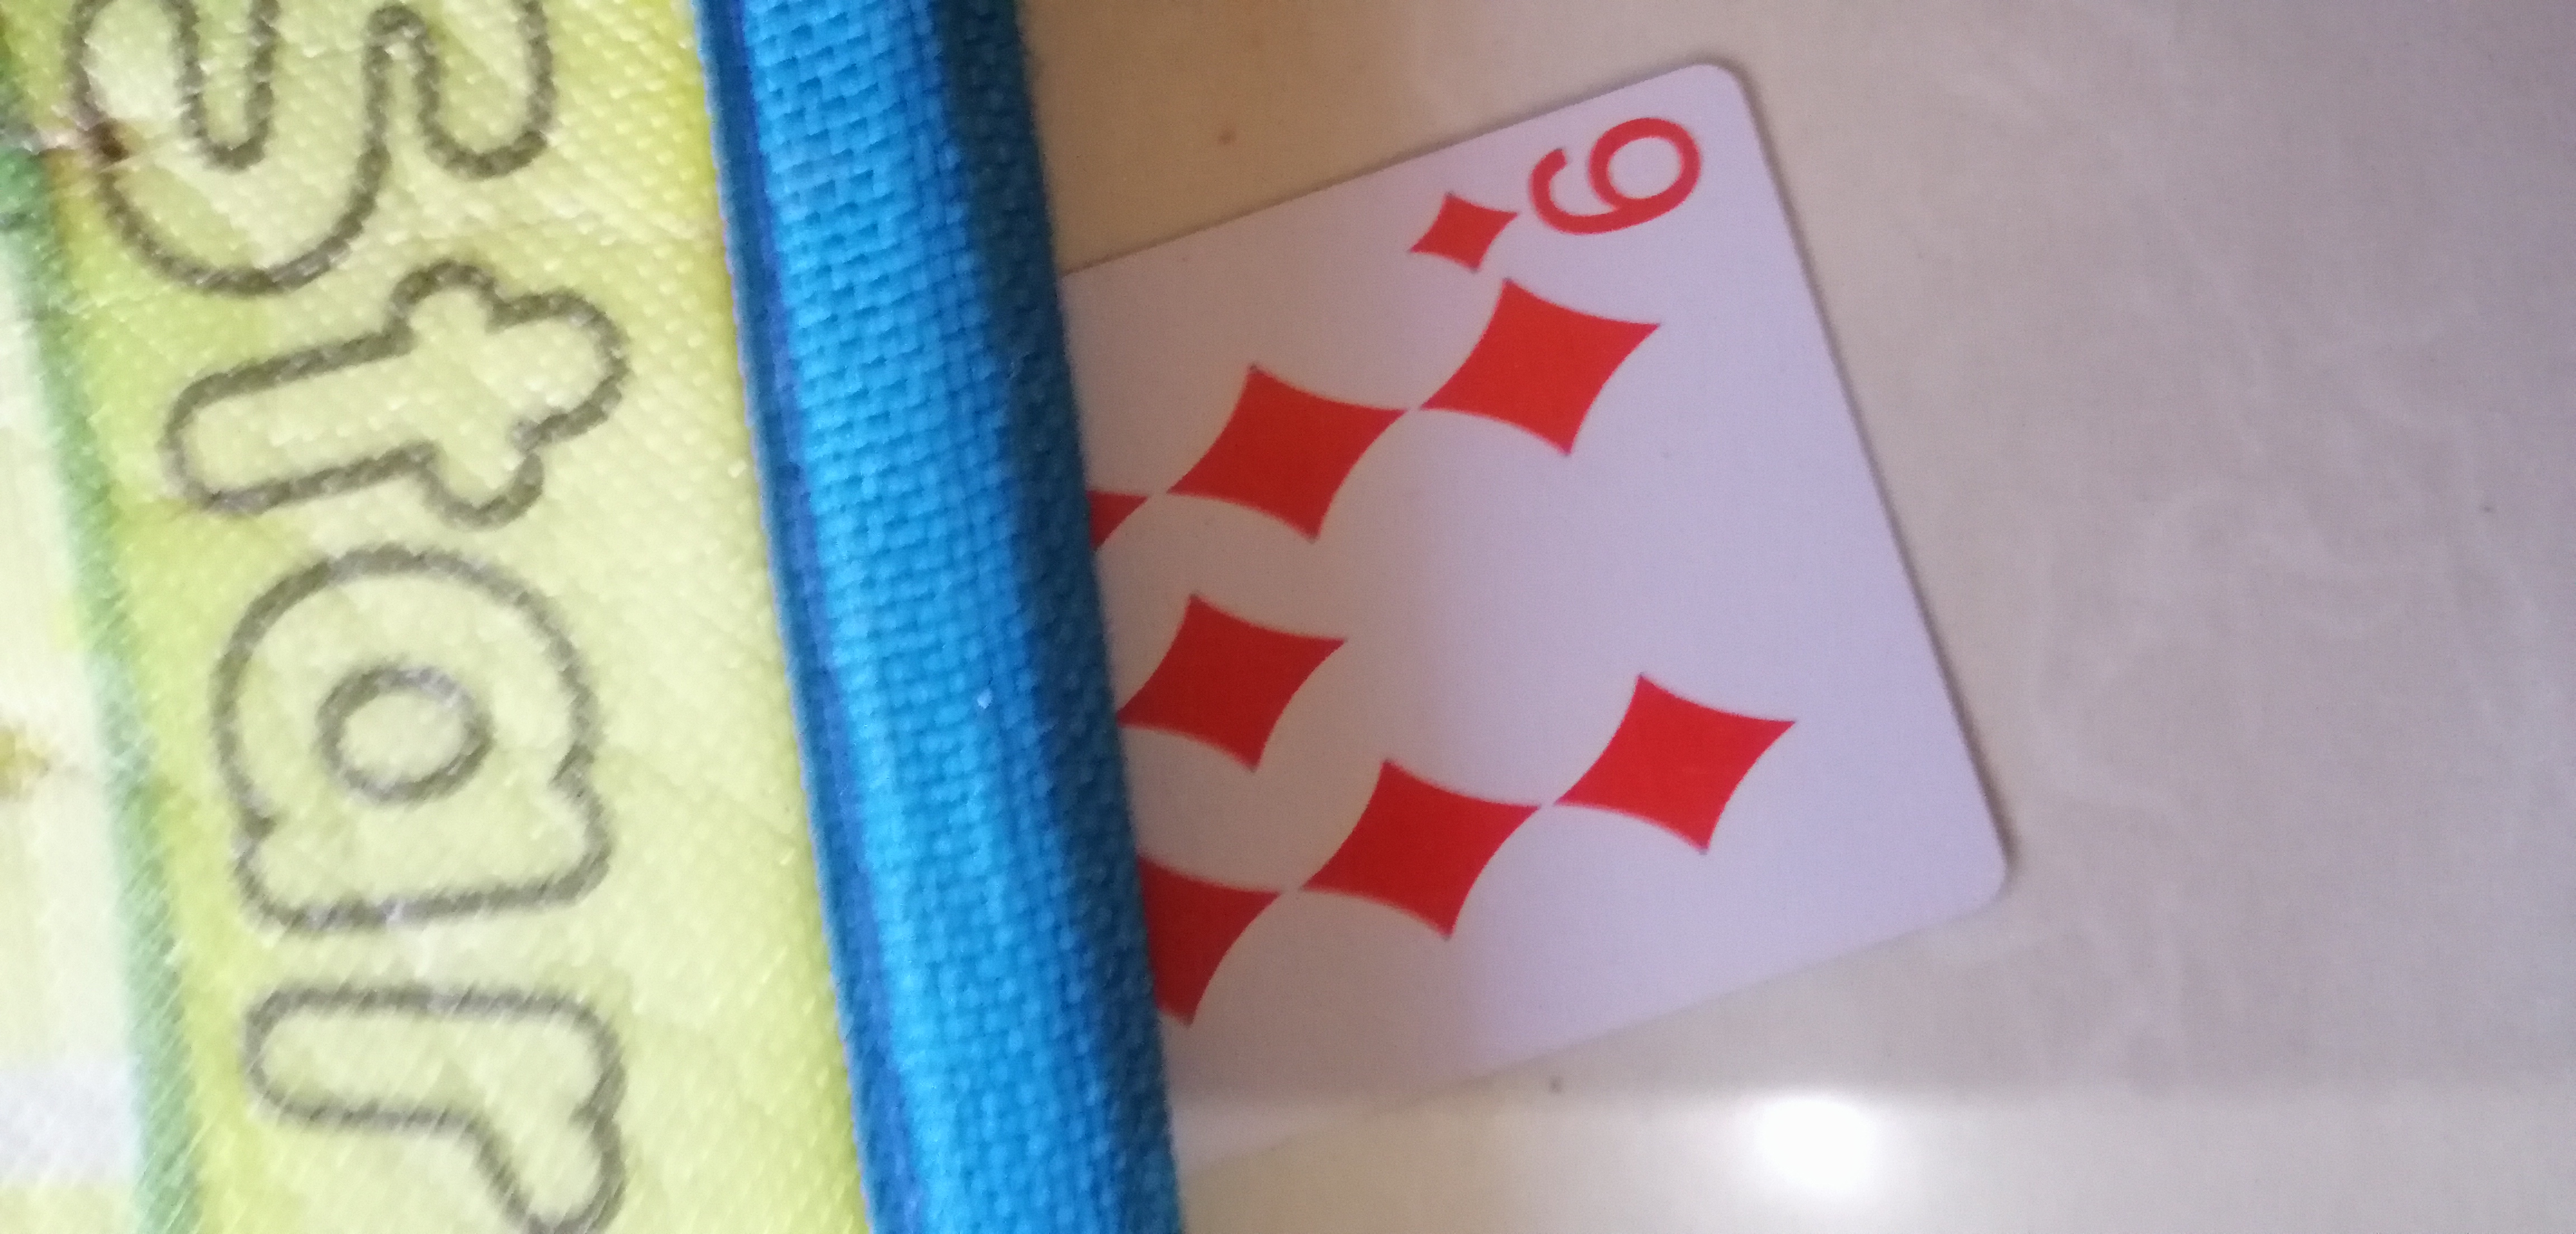nine: (1005, 56, 1981, 1066)
